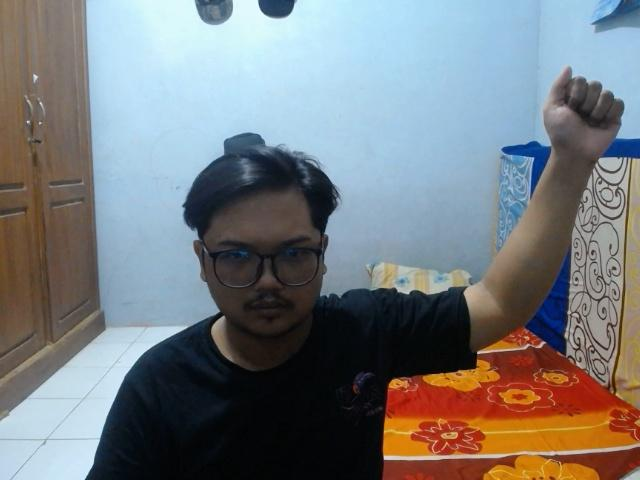Grab: (540, 60, 628, 164)
